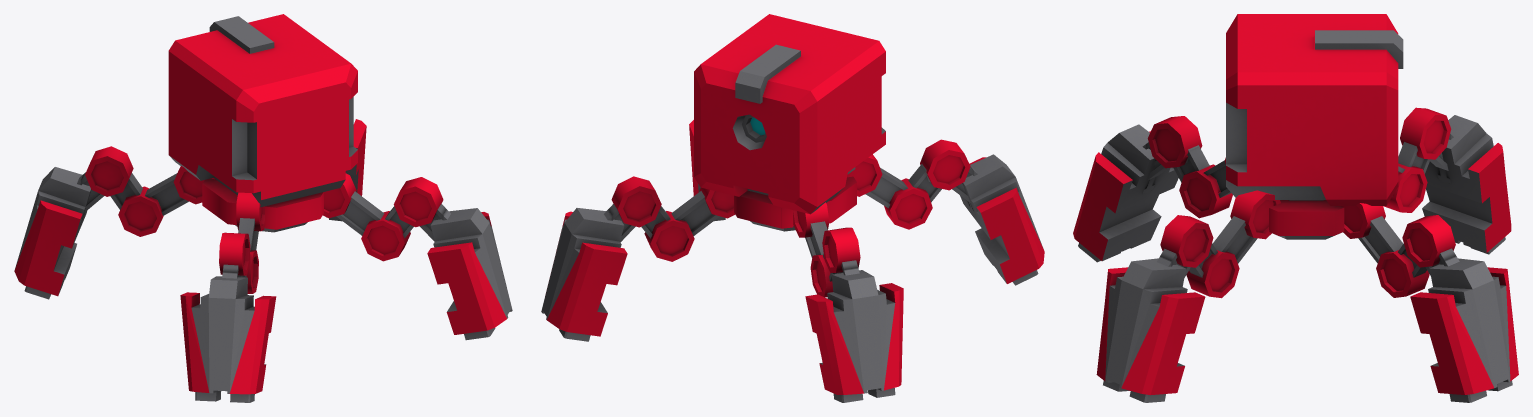
The model's file is Monster1_Attack0.obj.
The picture shows the model from 3 angles, left to right: view 1: azimuth 30°, elevation 25°; view 2: azimuth 150°, elevation 25°; view 3: azimuth 270°, elevation 25°; orthographic projection. The views are drawn at different scales.
Parts seen in each view (by area): view 1: Box006, Object021, Object017, Object025, Object020, Object028, Object027, Object018, Object019, Object026, Object024, Object022 (+2 smaller); view 2: Box006, Object025, Object013, Object021, Object016, Object023, Object024, Object015, Object014, Object028, Object022, Object026 (+1 smaller); view 3: Box006, Object013, Object017, Object021, Object025, Object018, Object023, Object016, Object020, Object024, Object028, Object014 (+4 smaller).
Boxes of the visible parts, x1,y1,x2,y2 form: Box006: (168, 14, 357, 232); Object021: (180, 276, 276, 402); Object017: (427, 208, 512, 340); Object025: (14, 167, 91, 299); Object020: (393, 177, 450, 241); Object028: (77, 146, 133, 212); Object027: (110, 173, 163, 236); Object018: (323, 173, 384, 235); Object019: (361, 206, 413, 261); Object026: (145, 166, 214, 215); Object024: (219, 232, 250, 278); Object022: (236, 192, 265, 251); Box006: (694, 14, 885, 231); Object025: (805, 270, 903, 402); Object013: (541, 208, 627, 341); Object021: (960, 154, 1044, 285); Object016: (604, 176, 661, 242); Object023: (884, 164, 941, 229); Object024: (920, 139, 977, 202); Object015: (641, 206, 694, 261); Object014: (671, 187, 734, 236); Object028: (822, 227, 860, 275); Object022: (847, 154, 908, 208); Object026: (793, 202, 829, 258); Box006: (1226, 14, 1403, 239); Object013: (1410, 258, 1518, 402); Object017: (1096, 258, 1205, 402); Object021: (1073, 124, 1178, 262); Object025: (1422, 115, 1511, 254); Object018: (1212, 190, 1280, 263); Object023: (1173, 145, 1232, 218); Object016: (1402, 215, 1459, 275); Object020: (1157, 215, 1213, 277); Object024: (1142, 116, 1202, 179); Object028: (1400, 107, 1453, 170); Object014: (1341, 203, 1403, 263).
Bounding box in the file's own units: 150 × 108 × 153.
